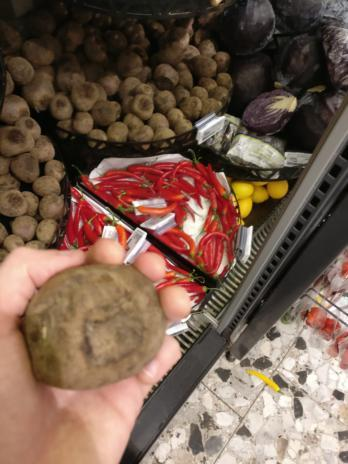Redchilli: (86, 160, 225, 240)
beetroot: (0, 9, 218, 129), (24, 254, 168, 395), (0, 130, 59, 244)
